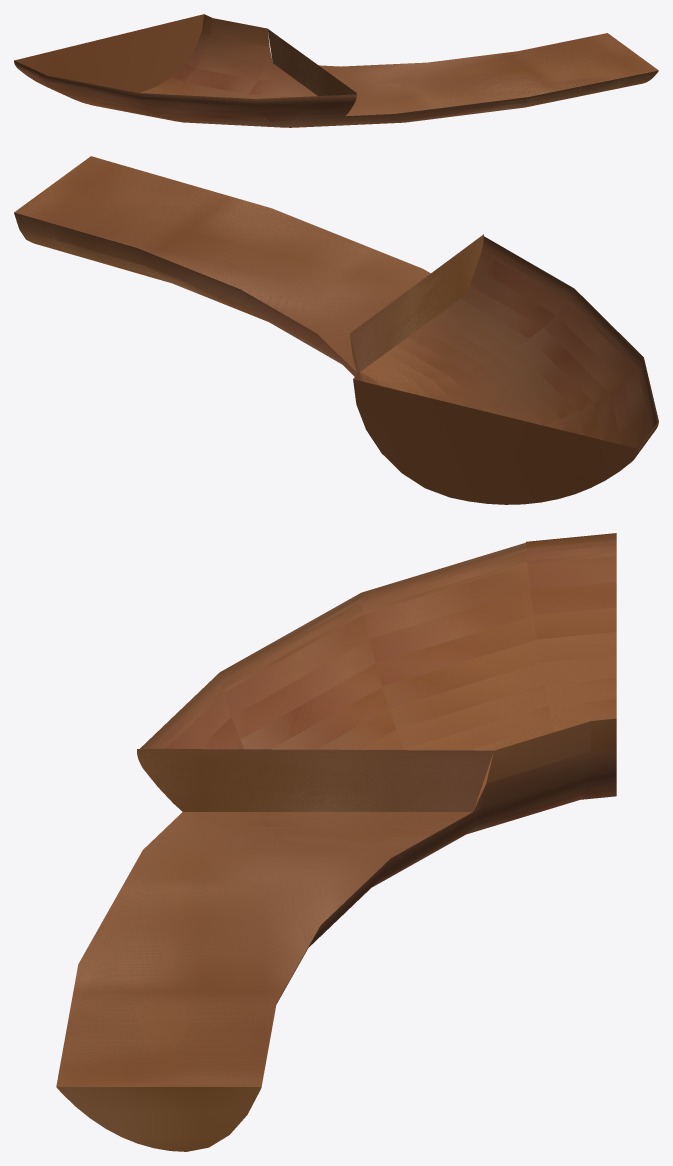
The model's file is original-13.obj.
3 renders of one model, top to bottom at view 1: azimuth 30°, elevation 25°; view 2: azimuth 150°, elevation 25°; view 3: azimuth 270°, elevation 25°, orthographic. The views are drawn at different scales.
Parts seen in each view (by area): view 1: Quarter_handle1/Quarter_handle/mesh9/mesh9-geometry#mesh9-geomet; view 2: Quarter_handle1/Quarter_handle/mesh9/mesh9-geometry#mesh9-geomet; view 3: Quarter_handle1/Quarter_handle/mesh9/mesh9-geometry#mesh9-geomet.
Part boxes in pixels (x1,y1,x2,y2): Quarter_handle1/Quarter_handle/mesh9/mesh9-geometry#mesh9-geomet: (14, 14, 658, 127); Quarter_handle1/Quarter_handle/mesh9/mesh9-geometry#mesh9-geomet: (14, 156, 658, 504); Quarter_handle1/Quarter_handle/mesh9/mesh9-geometry#mesh9-geomet: (56, 533, 616, 1151).
Size of the model in its own units: 0.0661 by 0.008 by 0.0318.
